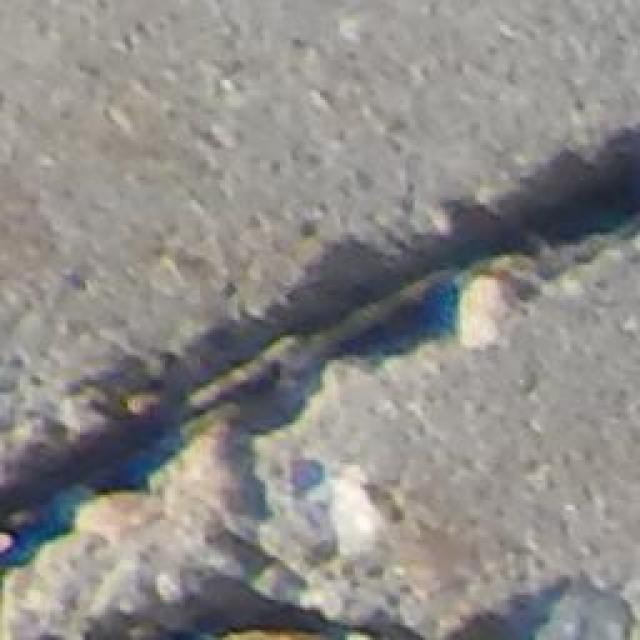concrete-crack: (0, 115, 640, 584), (84, 569, 594, 640)
